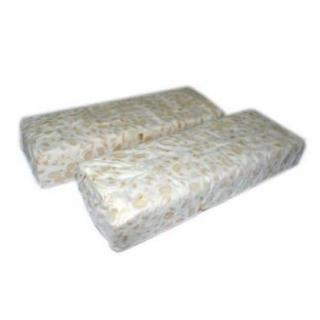Tempe: (14, 84, 310, 255)
